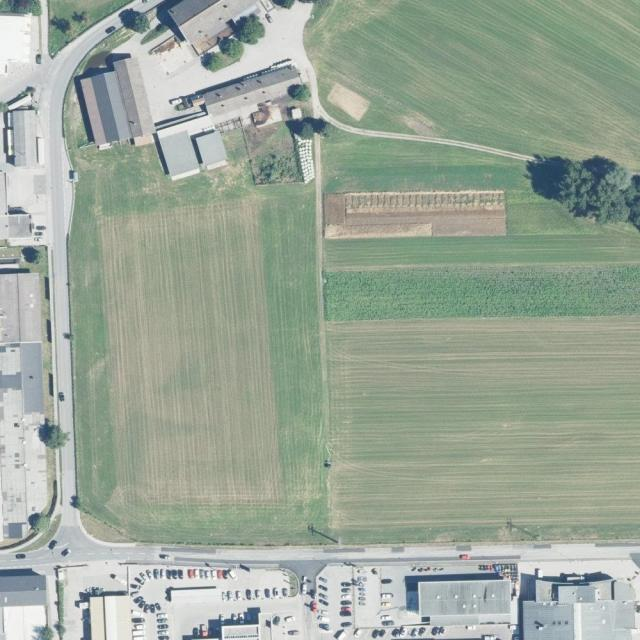agricultural_land: (65, 131, 330, 550), (327, 315, 640, 543), (324, 223, 640, 270)
building: (0, 271, 49, 541), (202, 63, 304, 122), (405, 573, 513, 625), (112, 56, 159, 147), (78, 70, 131, 147), (159, 129, 201, 181), (89, 592, 132, 640), (11, 109, 38, 166), (195, 130, 230, 171), (166, 0, 219, 27), (170, 586, 222, 604), (221, 624, 260, 640), (0, 170, 6, 214)
dryland: (324, 190, 506, 238)
greenland: (325, 262, 640, 321), (322, 126, 529, 193), (520, 145, 640, 229), (197, 8, 271, 81), (506, 187, 599, 235), (49, 0, 129, 55), (33, 417, 72, 455), (128, 10, 155, 37)
metalled_road: (7, 10, 121, 529), (115, 0, 331, 126), (52, 509, 97, 557), (129, 0, 163, 12)
unmetalled_road: (290, 63, 534, 203)
